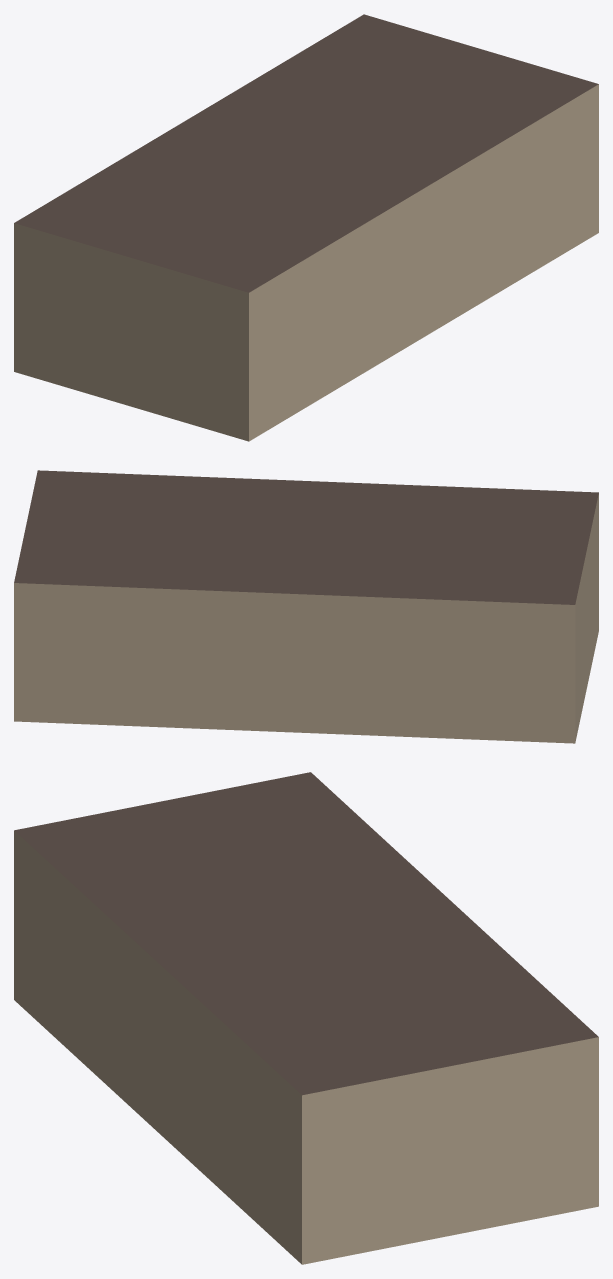
The picture shows the model from 3 angles, top to bottom: view 1: azimuth 30°, elevation 25°; view 2: azimuth 150°, elevation 25°; view 3: azimuth 270°, elevation 25°; orthographic projection. The views are drawn at different scales.
Parts seen in each view (by area): view 1: HP-w859457525; view 2: HP-w859457525; view 3: HP-w859457525.
Part boxes in pixels (<box>): HP-w859457525: <box>14,14,598,441</box>; HP-w859457525: <box>14,470,598,743</box>; HP-w859457525: <box>14,772,598,1264</box>.
Size of the model in its own units: 36.79 by 9 by 28.14.
